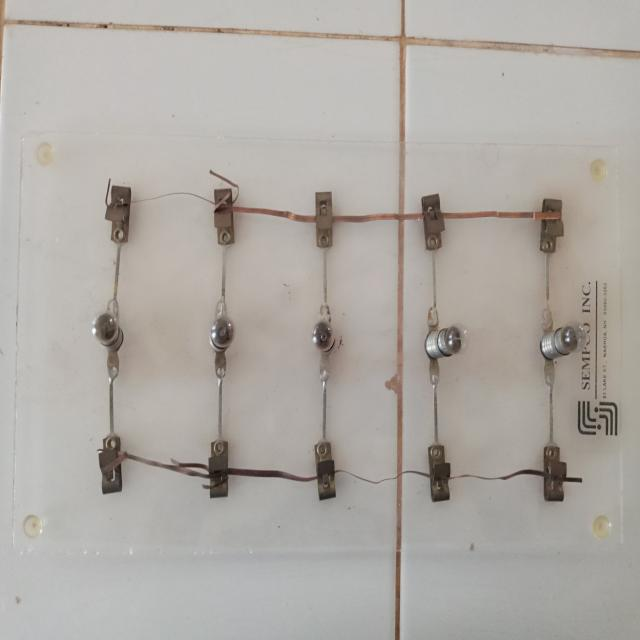Set of Resistors and Bulbs: (74, 161, 599, 522)
